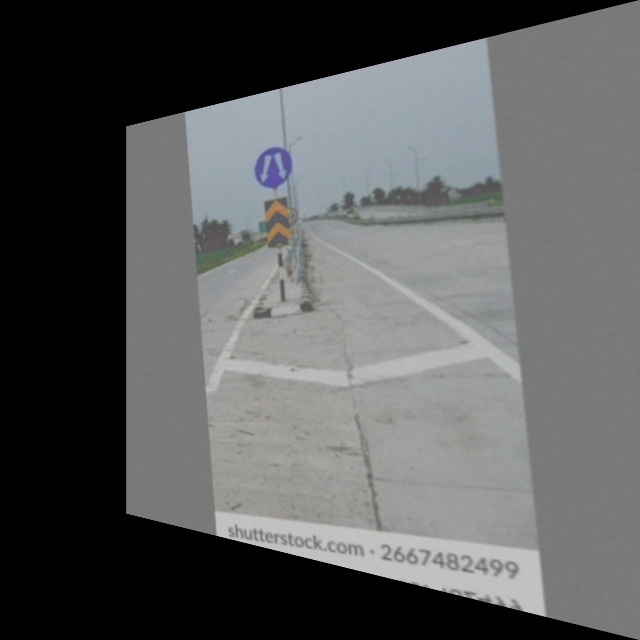Pass_Either_Side: (249, 136, 297, 197)
